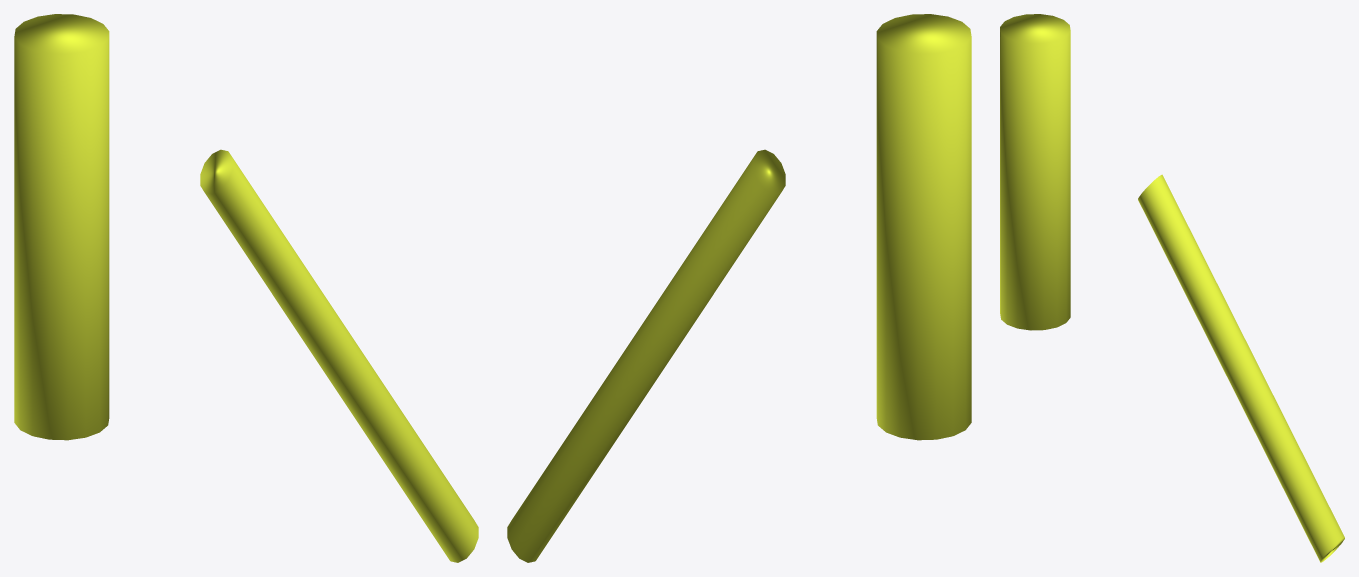
Rendered from hypercar_suspension_fr.glb.
3 views of the same model, side by side, from view 1: azimuth 30°, elevation 25°; view 2: azimuth 150°, elevation 25°; view 3: azimuth 330°, elevation 25° (orthographic). The views are drawn at different scales.
Parts seen in each view (by area): view 1: Hypercar_Suspension_FR; view 2: Hypercar_Suspension_FR; view 3: Hypercar_Suspension_FR.
Boxes of the visible parts, x1=… form: Hypercar_Suspension_FR: x1=14, y1=14, x2=478, y2=562; Hypercar_Suspension_FR: x1=507, y1=14, x2=971, y2=562; Hypercar_Suspension_FR: x1=1000, y1=14, x2=1344, y2=562.
Size of the model in its own units: 0.3936 by 0.5156 by 0.072.
